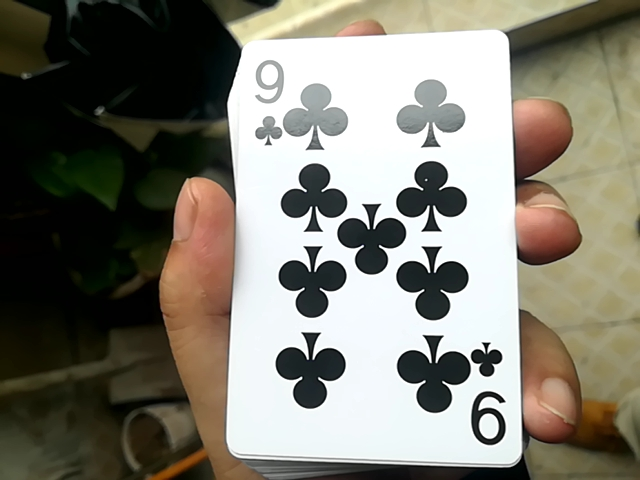mh 9: (216, 21, 512, 468)
